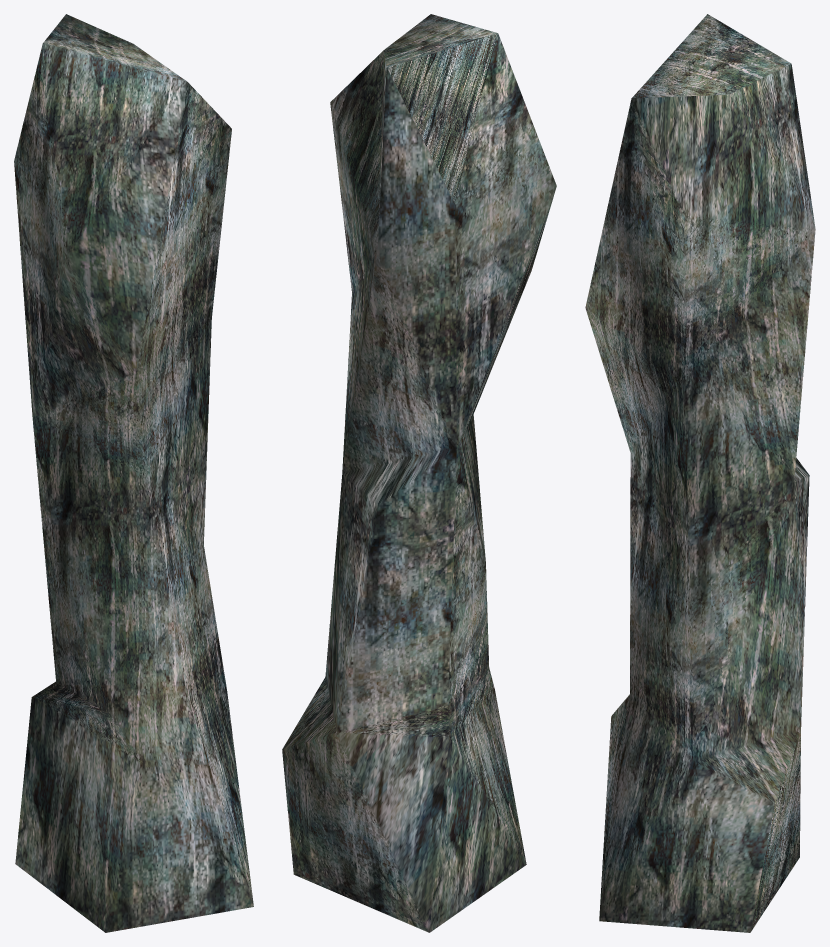
The model's file is rock_dath_desertspire_l4.fbx.
The picture shows the model from 3 angles, left to right: view 1: azimuth 30°, elevation 25°; view 2: azimuth 150°, elevation 25°; view 3: azimuth 270°, elevation 25°; orthographic projection. The views are drawn at different scales.
Parts seen in each view (by area): view 1: mesh_node; view 2: mesh_node; view 3: mesh_node.
Boxes of the visible parts, x1,y1,x2,y2 form: mesh_node: (14, 14, 253, 932); mesh_node: (282, 14, 556, 932); mesh_node: (585, 14, 815, 932).
Bounding box in the file's own units: 15.68 × 65.69 × 16.44.
